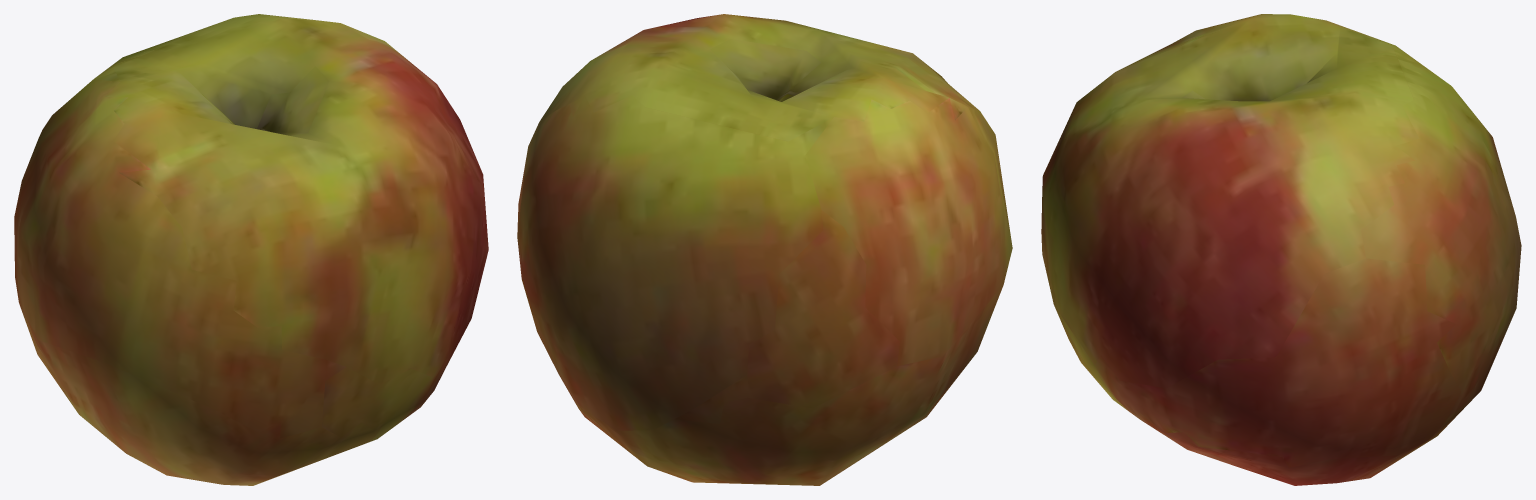
Rendered from produce.glb.
3 views of the same model, side by side, from view 1: azimuth 30°, elevation 25°; view 2: azimuth 150°, elevation 25°; view 3: azimuth 270°, elevation 25° (orthographic).
Visible parts, largest first — view 1: sm_food_produce_apple_f01_mesh_00.001; view 2: sm_food_produce_apple_f01_mesh_00.001; view 3: sm_food_produce_apple_f01_mesh_00.001.
Boxes of the visible parts, bbox=[...] form: sm_food_produce_apple_f01_mesh_00.001: bbox=[14, 14, 488, 485]; sm_food_produce_apple_f01_mesh_00.001: bbox=[517, 14, 1012, 485]; sm_food_produce_apple_f01_mesh_00.001: bbox=[1041, 14, 1521, 485].
Bounding box in the file's own units: 0.0735 × 0.0672 × 0.0742.
1 material, 1 textured.
